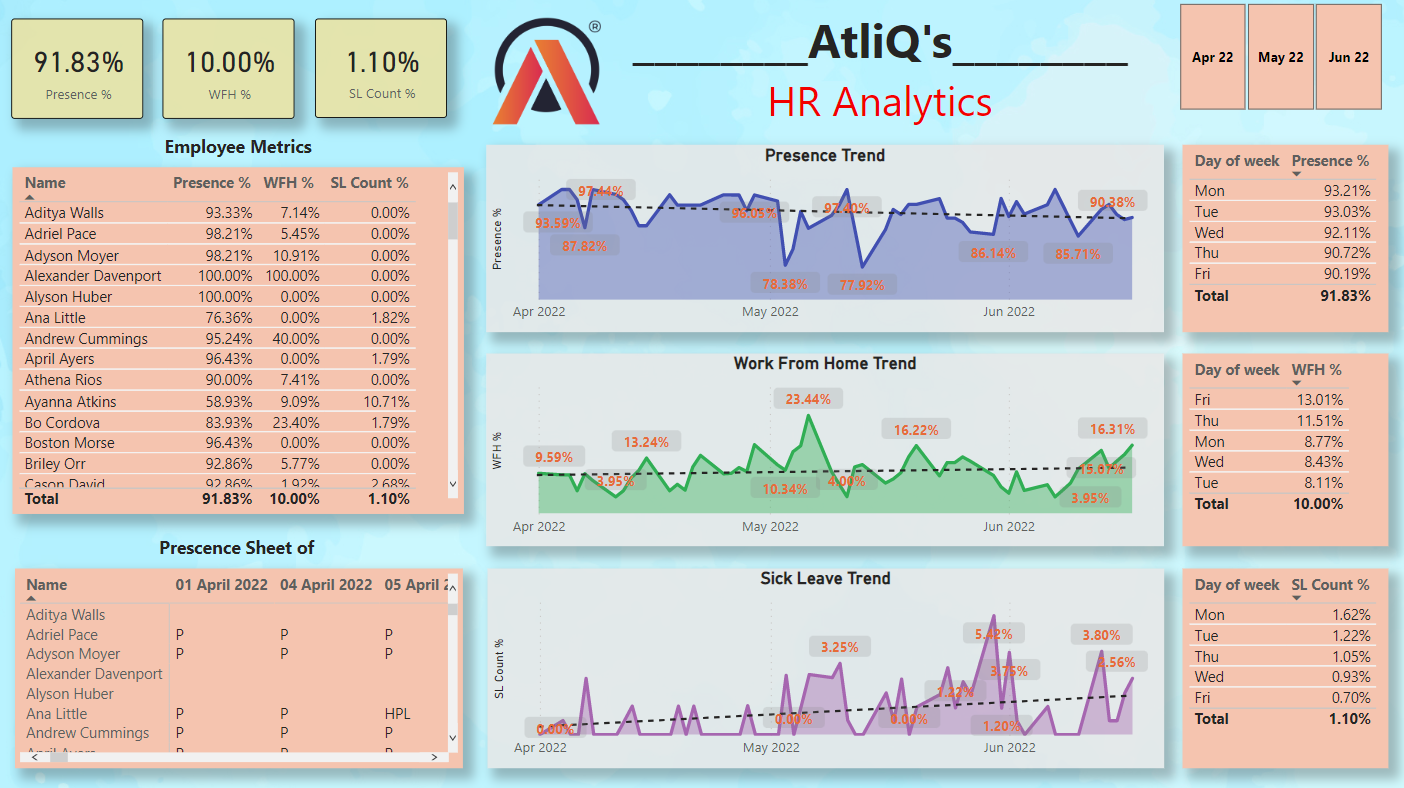

The page's visual inventory and layout, read from the dashboard file:
{"tool":"powerbi","page":{"name":"Page 1","canvas":[1280,720],"ordinal":0},"visuals":[{"type":"card","fields":{"Values":["Measure Table.Present %"]},"box":[10.7,20,120,91],"z":0},{"type":"slicer","fields":{"Values":["Final  Data.Month"]},"box":[1046.2,0,233.8,110],"z":1000},{"type":"card","fields":{"Values":["Measure Table.WFH %"]},"box":[148.2,20.5,120,91],"z":2000},{"type":"card","fields":{"Values":["Measure Table.SL Count %"]},"box":[286,20.2,120,90],"z":3000},{"type":"tableEx","fields":{"Values":["Final  Data.Name","Measure Table.Presence %","Measure Table.WFH %","Measure Table.SL Count %"]},"box":[11.2,156.2,410,315],"z":4000},{"type":"pivotTable","fields":{"Rows":["Final  Data.Name"],"Values":["Final  Data.Value"],"Columns":["Final  Data.Date"]},"box":[13.8,520,407.5,181.2],"z":5000},{"type":"areaChart","title":"Presence Trend","fields":{"Category":["Final  Data.Date"],"Y":["Measure Table.Presence %"]},"box":[442.5,135,616.2,170],"z":6000},{"type":"areaChart","title":"Work From Home Trend","fields":{"Category":["Final  Data.Date"],"Y":["Measure Table.WFH %"]},"box":[442.5,325,616.2,175],"z":7000},{"type":"areaChart","title":"Sick Leave Trend","fields":{"Category":["Final  Data.Date"],"Y":["Measure Table.SL Count %"]},"box":[443.8,520,615,181.2],"z":8000},{"type":"tableEx","fields":{"Values":["Final  Data.Day of week","Measure Table.Presence %"]},"box":[1075,135,187.5,170],"z":9000},{"type":"tableEx","fields":{"Values":["Final  Data.Day of week","Measure Table.WFH %"]},"box":[1075,325,187.5,175],"z":10000},{"type":"tableEx","fields":{"Values":["Final  Data.Day of week","Measure Table.SL Count %"]},"box":[1075,520,187.5,181.2],"z":11000},{"type":"card","fields":{"Values":["Measure Table.Prescence Sheet"]},"box":[13.8,486.2,407.5,33.8],"z":12000},{"type":"textbox","box":[11.2,120,410,36.2],"z":13000},{"type":"image","box":[442.5,0,112.5,135],"z":14000},{"type":"textbox","box":[555,0,491.2,135],"z":15000}]}

Visuals, with their boxes in screenshot pixels (x1, y1, x2, y2), scaled from the page's 1280x720 canvas onto the 1404x788 screenshot:
card - Measure Table.Present %: <region>12, 22, 143, 121</region>
slicer - Final  Data.Month: <region>1148, 0, 1403, 120</region>
card - Measure Table.WFH %: <region>163, 22, 294, 122</region>
card - Measure Table.SL Count %: <region>314, 22, 445, 121</region>
tableEx - Final  Data.Name x Measure Table.Presence %: <region>12, 171, 462, 516</region>
pivotTable - Final  Data.Name x Final  Data.Value: <region>15, 569, 462, 767</region>
"Presence Trend" areaChart: <region>485, 148, 1161, 334</region>
"Work From Home Trend" areaChart: <region>485, 356, 1161, 547</region>
"Sick Leave Trend" areaChart: <region>487, 569, 1161, 767</region>
tableEx - Final  Data.Day of week x Measure Table.Presence %: <region>1179, 148, 1385, 334</region>
tableEx - Final  Data.Day of week x Measure Table.WFH %: <region>1179, 356, 1385, 547</region>
tableEx - Final  Data.Day of week x Measure Table.SL Count %: <region>1179, 569, 1385, 767</region>
card - Measure Table.Prescence Sheet: <region>15, 532, 462, 569</region>
textbox: <region>12, 131, 462, 171</region>
image: <region>485, 0, 609, 148</region>
textbox: <region>609, 0, 1148, 148</region>
